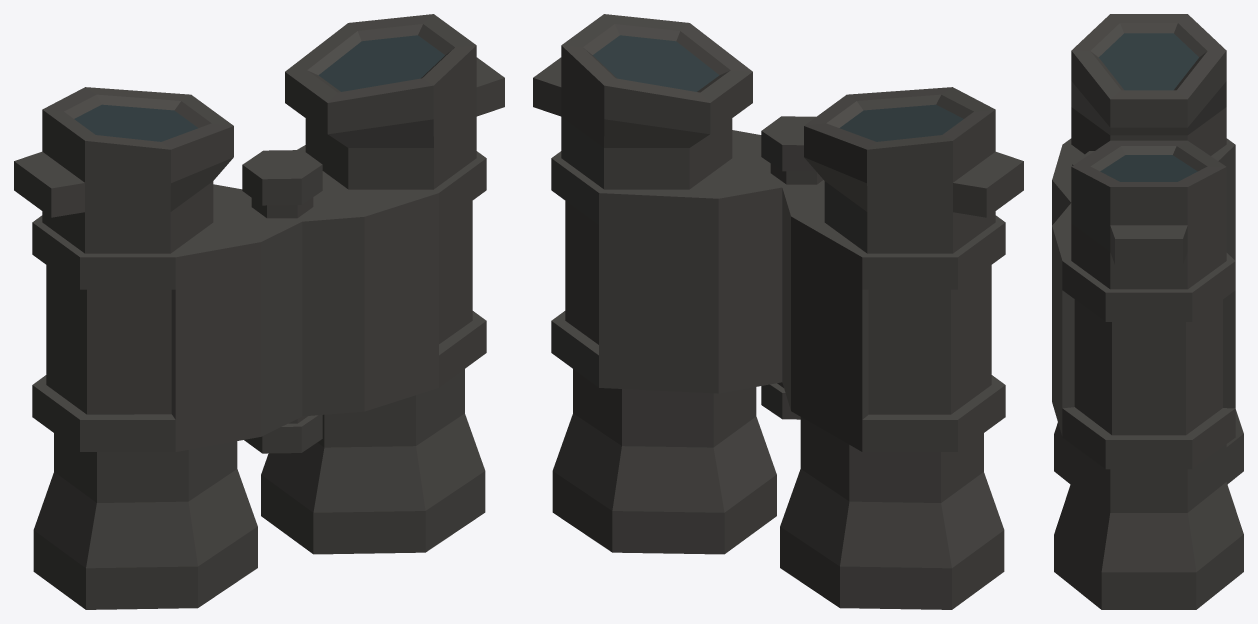
The model's file is Binoculars_01_SM.FBX.
3 views of the same model, side by side, from view 1: azimuth 30°, elevation 25°; view 2: azimuth 150°, elevation 25°; view 3: azimuth 270°, elevation 25° (orthographic). The views are drawn at different scales.
Parts seen in each view (by area): view 1: Binoculars_01_SM; view 2: Binoculars_01_SM; view 3: Binoculars_01_SM.
Boxes of the visible parts, <box> form: Binoculars_01_SM: <box>14,14,504,609</box>; Binoculars_01_SM: <box>533,14,1023,609</box>; Binoculars_01_SM: <box>1052,14,1243,609</box>.
Size of what is drawn, in the model's own units: 15.31 by 6.18 by 14.98.
